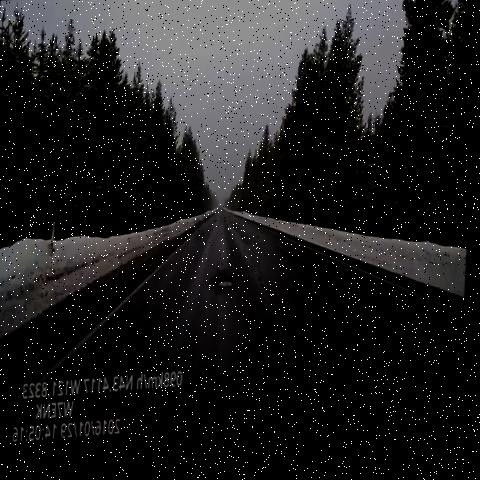pothole: (250, 263, 278, 310), (216, 266, 244, 304)
